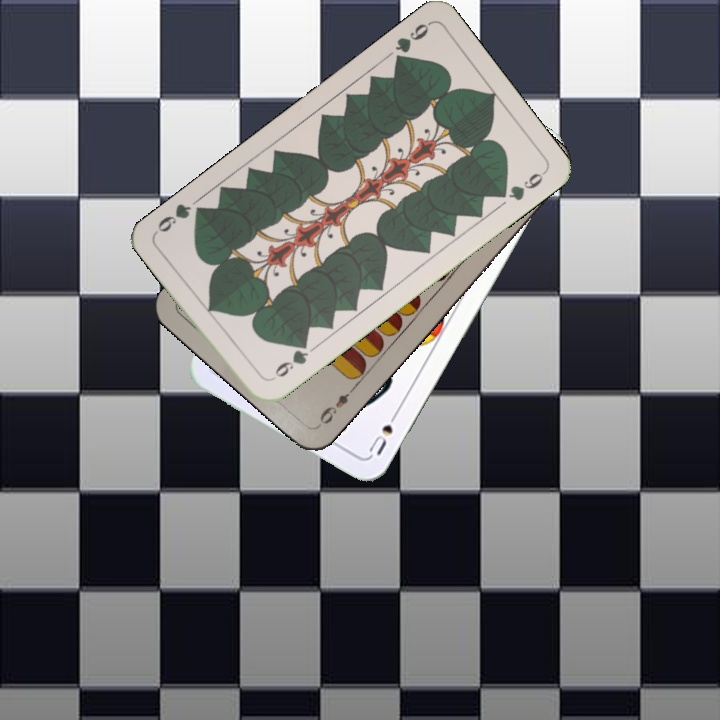E9: (315, 382, 359, 429)
G9: (265, 337, 311, 384), (390, 18, 433, 68)
SU: (364, 404, 402, 458)
